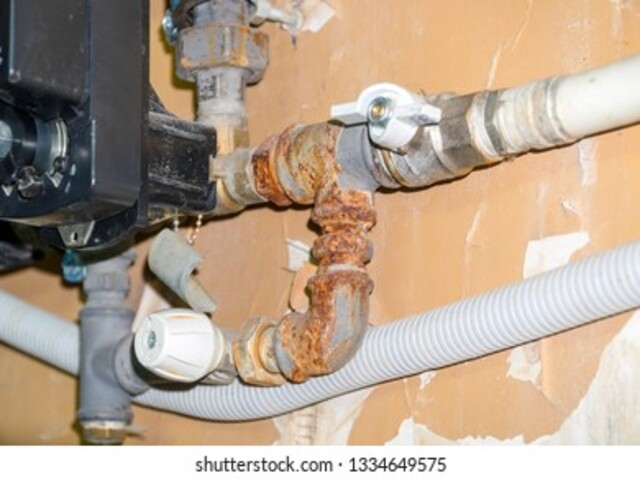Moderate: (247, 116, 380, 388)
